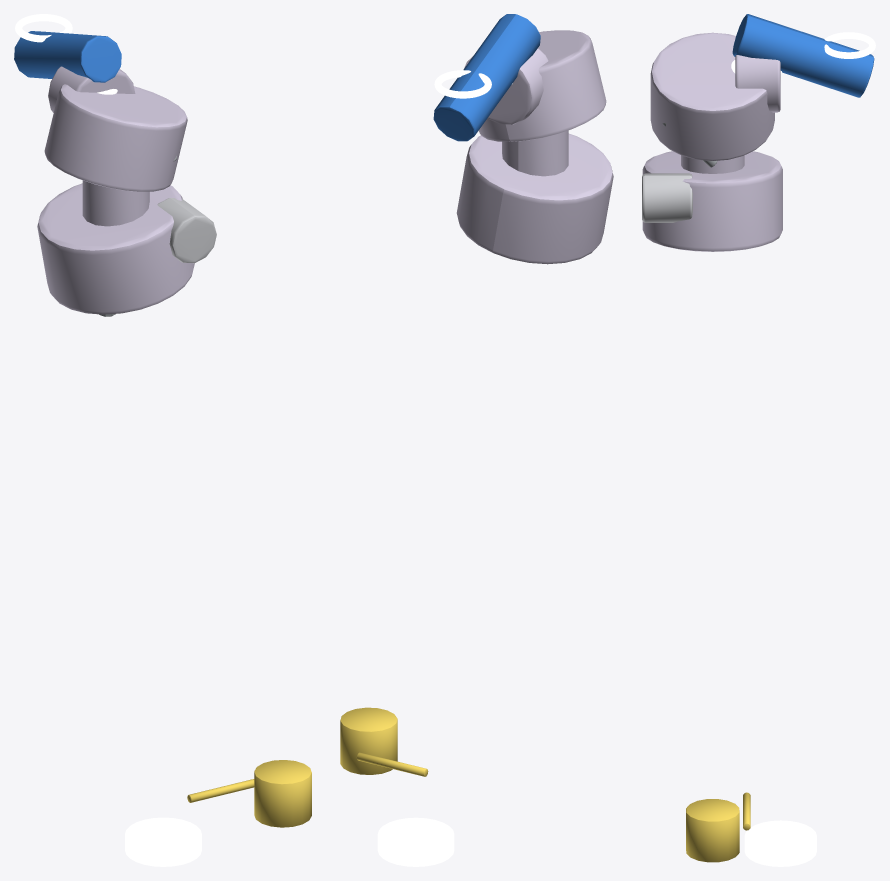
File: engine_v8_turbo_l.glb
3 views of the same model, side by side, from view 1: azimuth 30°, elevation 25°; view 2: azimuth 150°, elevation 25°; view 3: azimuth 270°, elevation 25° (orthographic). The views are drawn at different scales.
Visible parts, largest first — view 1: Engine_V8_Turbo_L, GEO_V8Turbo_WastegateActuator, GEO_V8Turbo_BilletImpeller; view 2: Engine_V8_Turbo_L, GEO_V8Turbo_WastegateActuator, GEO_V8Turbo_BilletImpeller; view 3: Engine_V8_Turbo_L, GEO_V8Turbo_WastegateActuator, GEO_V8Turbo_BilletImpeller.
Boxes of the visible parts, x1=… form: Engine_V8_Turbo_L: x1=14, y1=14, x2=216, y2=316; GEO_V8Turbo_WastegateActuator: x1=187, y1=760, x2=311, y2=827; GEO_V8Turbo_BilletImpeller: x1=125, y1=817, x2=201, y2=866; Engine_V8_Turbo_L: x1=433, y1=14, x2=613, y2=264; GEO_V8Turbo_WastegateActuator: x1=340, y1=707, x2=428, y2=776; GEO_V8Turbo_BilletImpeller: x1=377, y1=817, x2=454, y2=866; Engine_V8_Turbo_L: x1=642, y1=14, x2=875, y2=251; GEO_V8Turbo_WastegateActuator: x1=686, y1=792, x2=750, y2=862; GEO_V8Turbo_BilletImpeller: x1=744, y1=820, x2=816, y2=866.
Bounding box in the file's own units: 0.2495 × 0.7766 × 0.2065.
